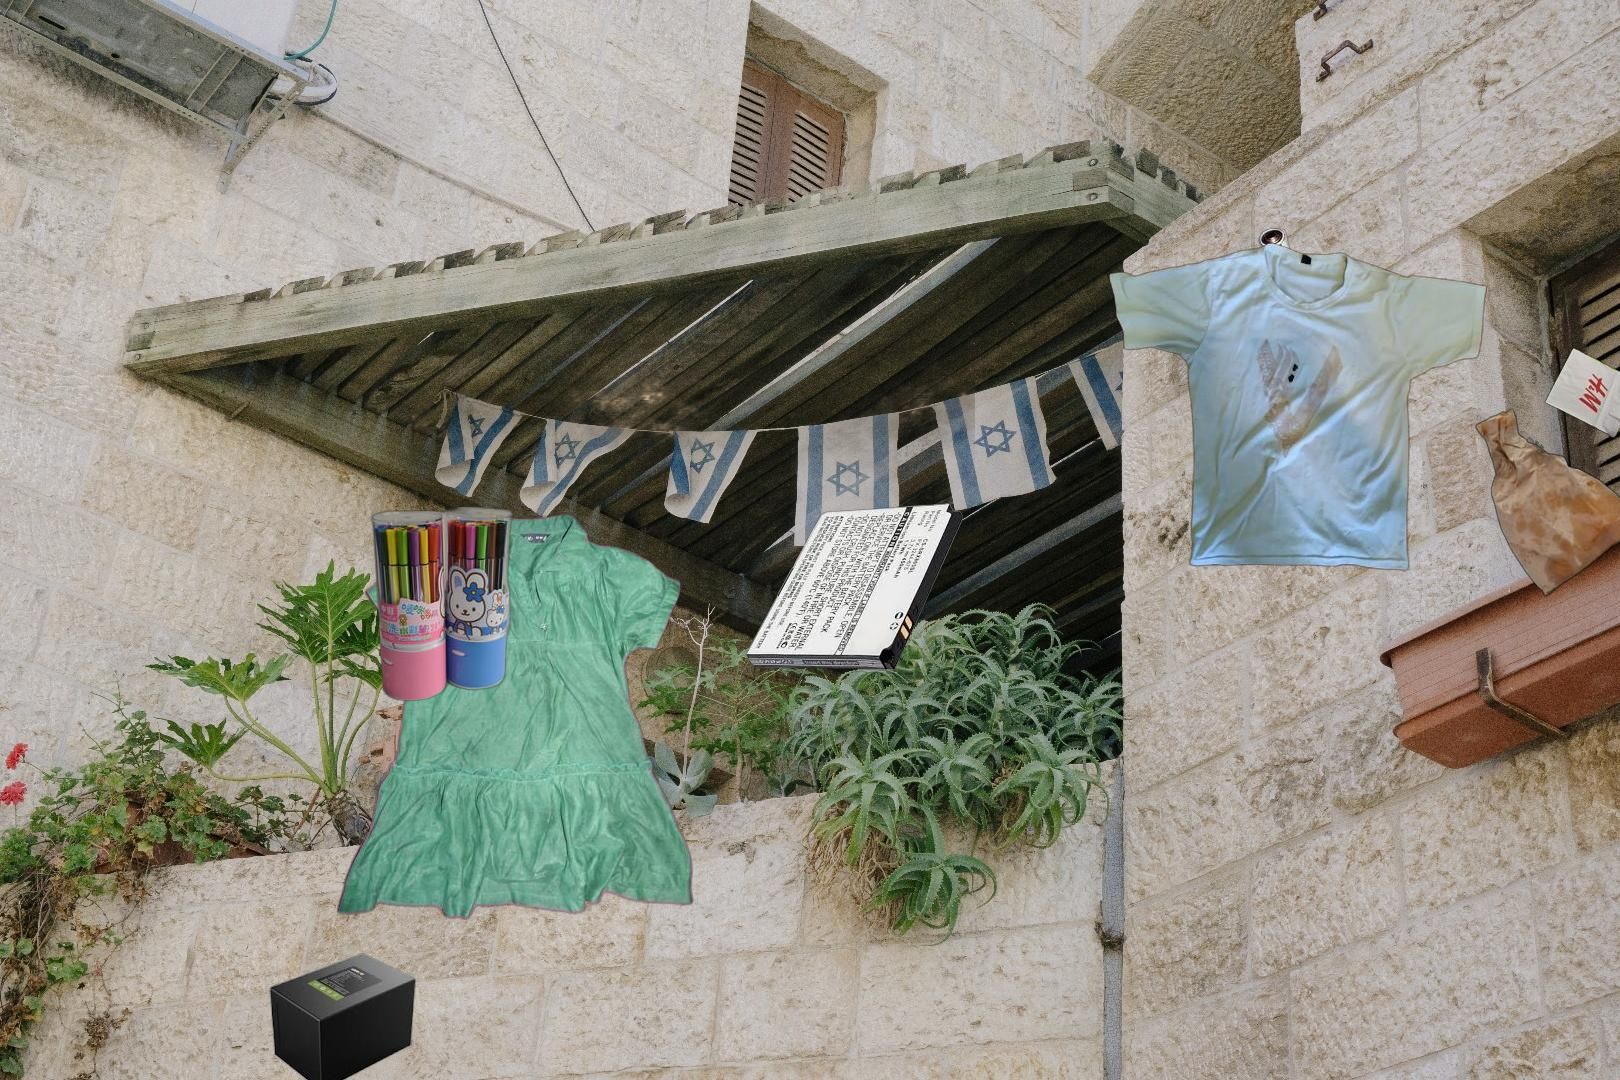battery: (742, 500, 965, 680), (268, 951, 419, 1080), (1256, 225, 1373, 297)
clothes: (335, 507, 695, 925), (1105, 239, 1491, 574)
paper-bag: (1474, 345, 1620, 599)
penholder: (366, 507, 516, 703)
trashbox-cardboard: (363, 344, 975, 749)
